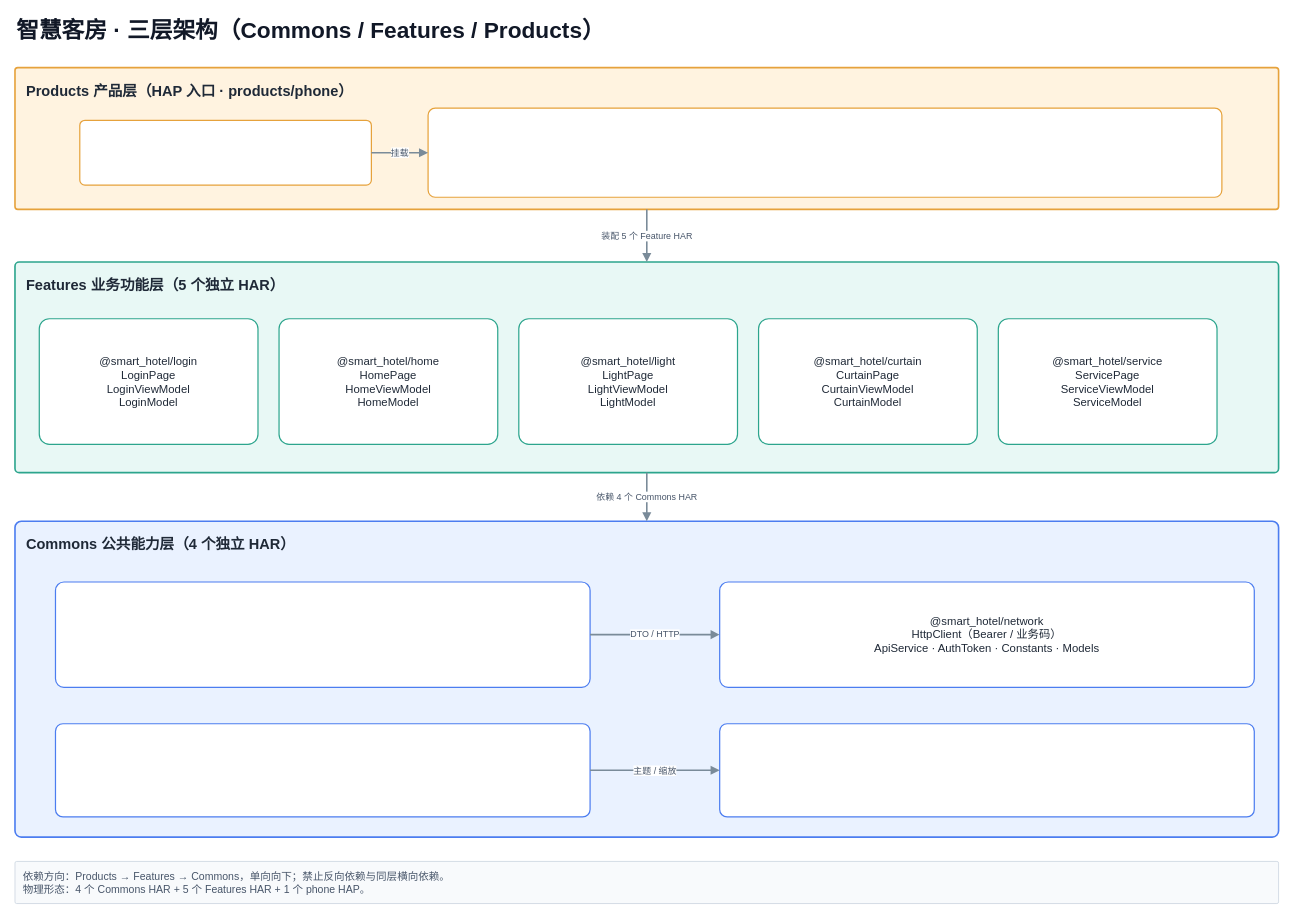
The diagram is 1293 pixels wide and 918 high, and some of its shapes have lost their labels. Here are the shapes that lost their labels. From the top down, the centre of each, then its label:
At pixel 225 152: "pages/Index @Entry 页面入口".
At pixel 824 152: "phone 产品壳 · PhoneApp 登录态切换 · Navigation 路由 TabBar · 轮询生命周期".
At pixel 322 634: "@smart_hotel/datastore AppState（@ObservedV2/@Trace） RoomRepository · TokenStore".
At pixel 322 770: "@smart_hotel/uicomponents Backdrop · ToggleSwitch PageTitle · TabBar".
At pixel 987 770: "@smart_hotel/utils BusinessRules · Scale · Theme".
